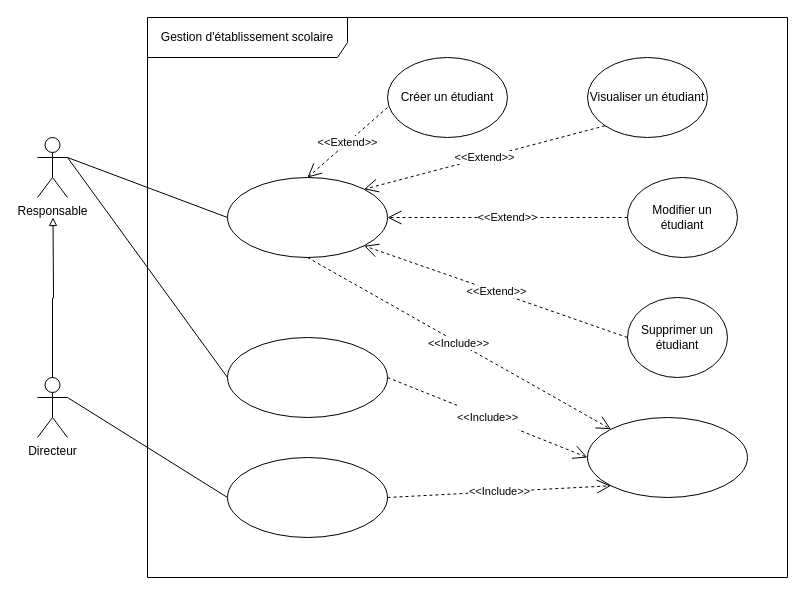
Image size: 805x595. Some labels were removed from this diagram. The shapes that lost their labels are listed below. From the top down, each one's centre as x and y in pixels, then its label:
(x=307, y=217): Gérer un étudiant
(x=307, y=377): Associer un cours à un étudiant
(x=667, y=457): S'authentifier
(x=307, y=497): Lister les étudiants
